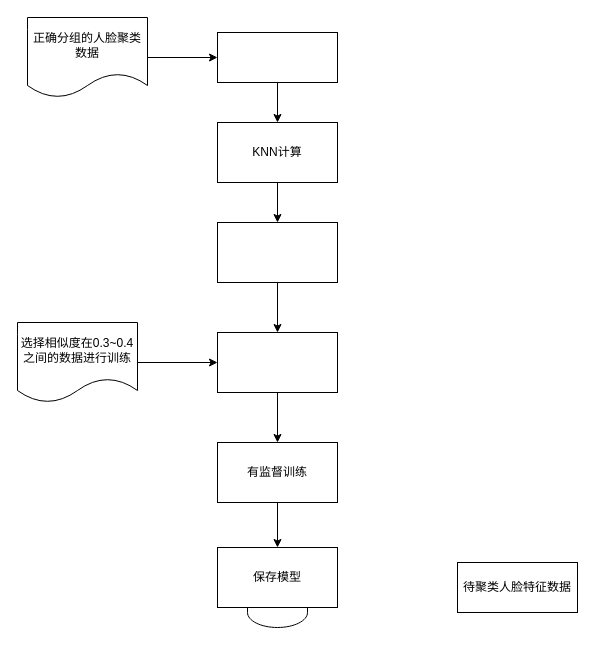
The diagram is 595 pixels wide and 645 high, and some of its shapes have lost their labels. The box of each missing label's shape, as (x1, y1, x2, y2) in pixels:
人脸特征聚类训练集: (216, 32, 338, 82)
余弦距离计算: (216, 222, 338, 282)
阈值区间的选择: (216, 332, 338, 392)
